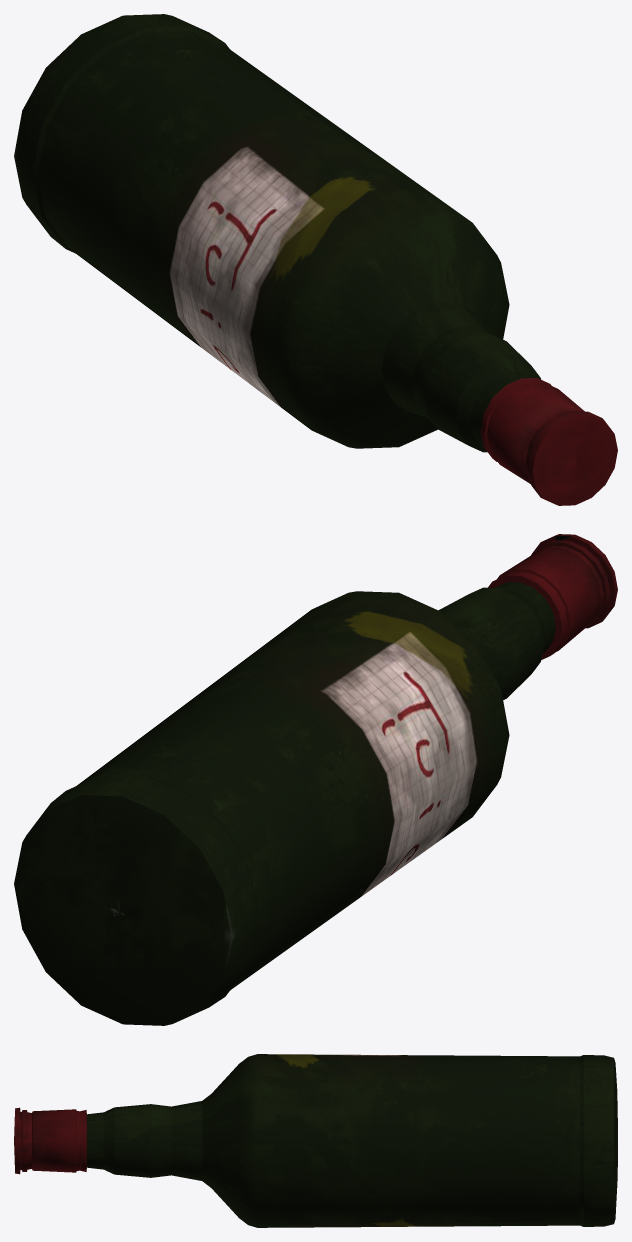
The model's file is maniphys_wine_bottle.glb.
3 views of the same model, one above another, from view 1: azimuth 30°, elevation 25°; view 2: azimuth 150°, elevation 25°; view 3: azimuth 270°, elevation 25° (orthographic). The views are drawn at different scales.
Parts seen in each view (by area): view 1: Rectangle001_Material #36_0, Rectangle001_Material #37_0; view 2: Rectangle001_Material #36_0, Rectangle001_Material #37_0; view 3: Rectangle001_Material #36_0, Rectangle001_Material #37_0.
Boxes of the visible parts, box(x1,y1,x2,y2) form: Rectangle001_Material #36_0: box(14, 14, 540, 452); Rectangle001_Material #37_0: box(480, 378, 617, 505); Rectangle001_Material #36_0: box(14, 582, 555, 1025); Rectangle001_Material #37_0: box(488, 534, 617, 659); Rectangle001_Material #36_0: box(87, 1054, 617, 1227); Rectangle001_Material #37_0: box(14, 1107, 86, 1174).
Size of the model in its own units: 0.053 by 0.053 by 0.184.
Materials: 4 (3 with a texture image).
